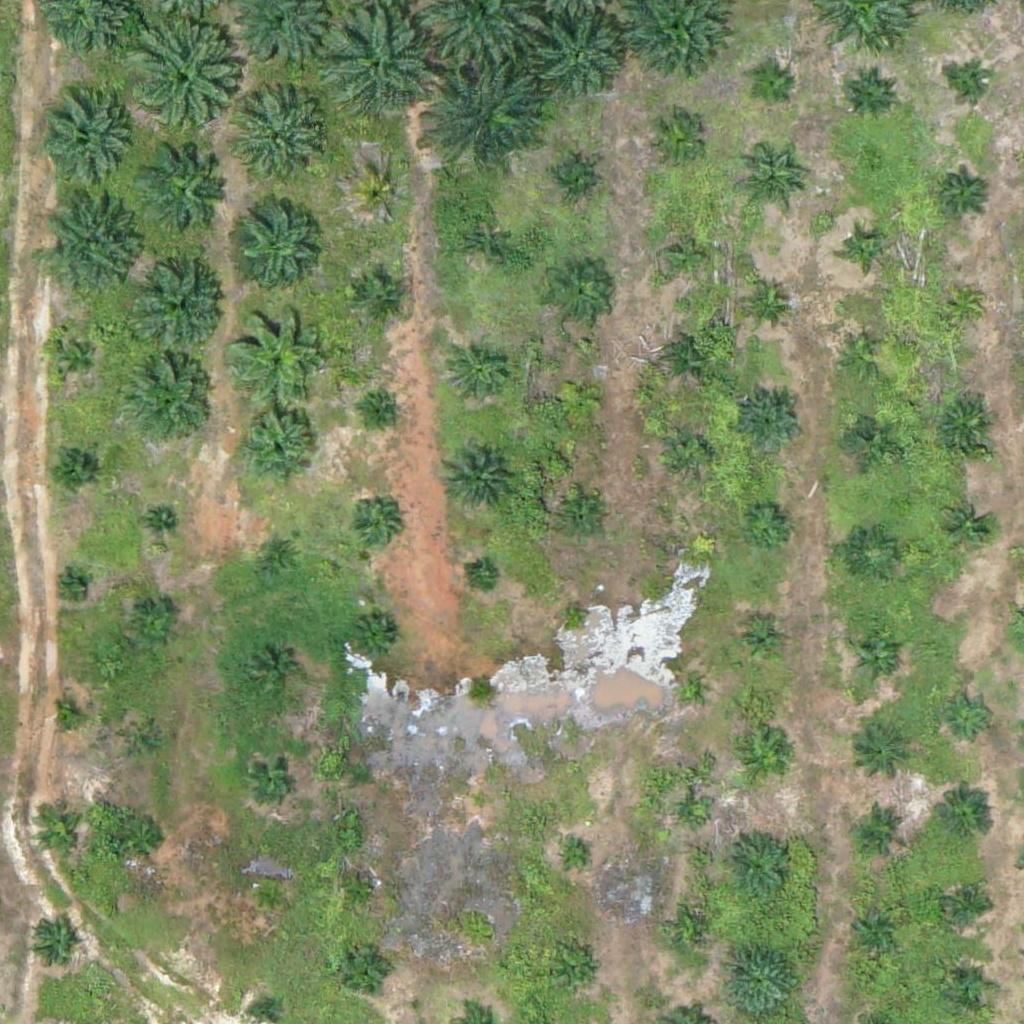Kelapa_Sawit: (426, 54, 551, 180), (119, 20, 244, 145), (326, 12, 439, 125), (37, 93, 137, 194), (227, 303, 327, 404), (45, 195, 145, 296), (240, 97, 328, 186), (234, 404, 322, 492), (536, 15, 624, 103), (125, 353, 213, 441), (137, 261, 225, 349), (144, 148, 232, 236), (234, 193, 321, 281), (719, 828, 794, 904), (723, 942, 798, 1018), (440, 440, 515, 516), (853, 721, 916, 784), (738, 154, 801, 217), (644, 108, 707, 171), (740, 390, 803, 453), (655, 225, 718, 288), (932, 790, 995, 853), (548, 263, 610, 326), (448, 342, 510, 405), (935, 394, 997, 457), (452, 212, 514, 275), (121, 813, 171, 864), (341, 943, 391, 994), (847, 529, 897, 580), (845, 411, 895, 462), (665, 333, 715, 384), (741, 276, 791, 327), (666, 427, 716, 478), (545, 154, 595, 205), (554, 373, 604, 424), (742, 500, 792, 551), (940, 500, 990, 551), (944, 690, 994, 741), (852, 632, 902, 683), (34, 807, 84, 858), (355, 271, 405, 321), (845, 69, 895, 119), (741, 734, 791, 784), (939, 167, 989, 217), (838, 331, 888, 381), (746, 64, 796, 114), (560, 494, 610, 544), (942, 879, 992, 929), (944, 963, 994, 1013), (850, 899, 900, 949), (855, 804, 905, 854), (737, 617, 787, 667), (29, 920, 79, 970), (349, 500, 399, 550), (352, 614, 402, 664), (249, 753, 299, 803), (249, 646, 299, 696), (256, 532, 306, 582), (129, 602, 179, 652), (48, 442, 98, 492), (356, 171, 406, 221), (51, 333, 101, 383), (944, 285, 982, 323), (847, 230, 885, 268), (559, 955, 596, 993), (953, 65, 990, 103), (250, 879, 288, 916), (124, 724, 162, 761), (343, 873, 380, 911), (469, 563, 494, 589), (681, 919, 706, 945), (674, 674, 699, 699), (679, 802, 704, 827), (562, 845, 587, 870), (562, 601, 587, 626), (60, 573, 85, 598), (53, 703, 78, 728), (370, 399, 395, 424), (468, 790, 493, 815), (148, 509, 172, 534)
